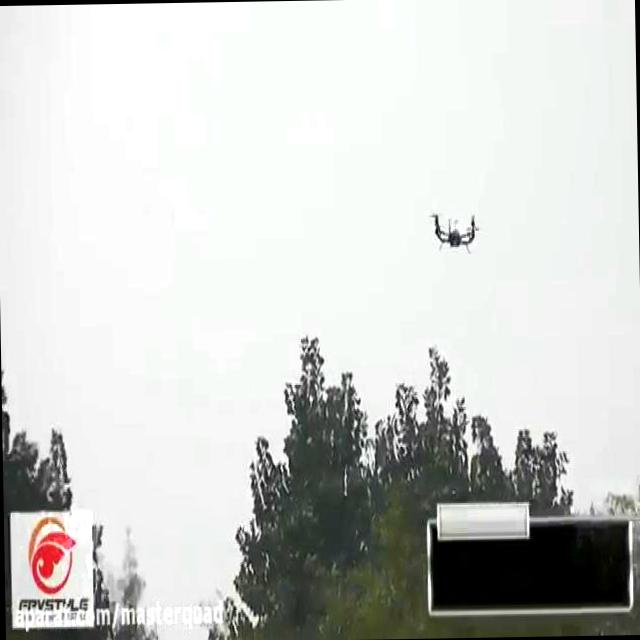drone: (424, 203, 484, 256)
